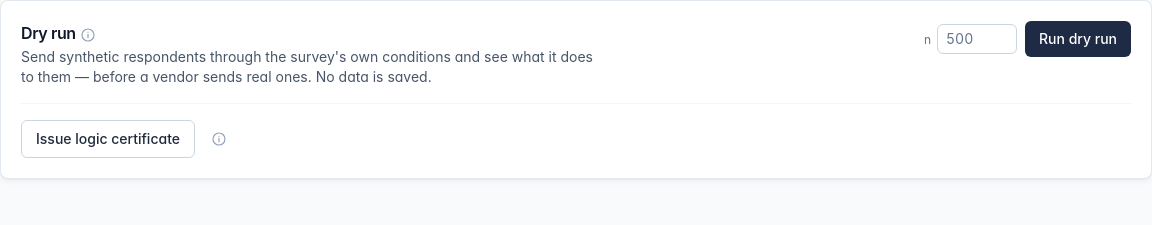
Test case: DryRunPanel certificate › offers the download once issued
The width and height of the screenshot is (1152, 225).
Click the button "Issue logic certificate" at {"x": 108, "y": 139}, box [21, 120, 195, 158]
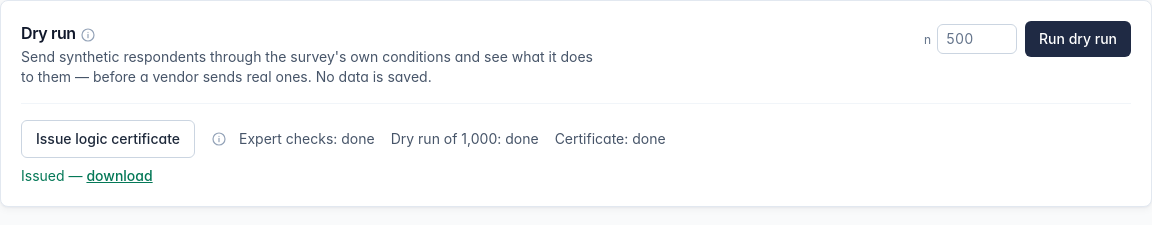
Expected: the button "download" is shown, [86, 166, 153, 186]
